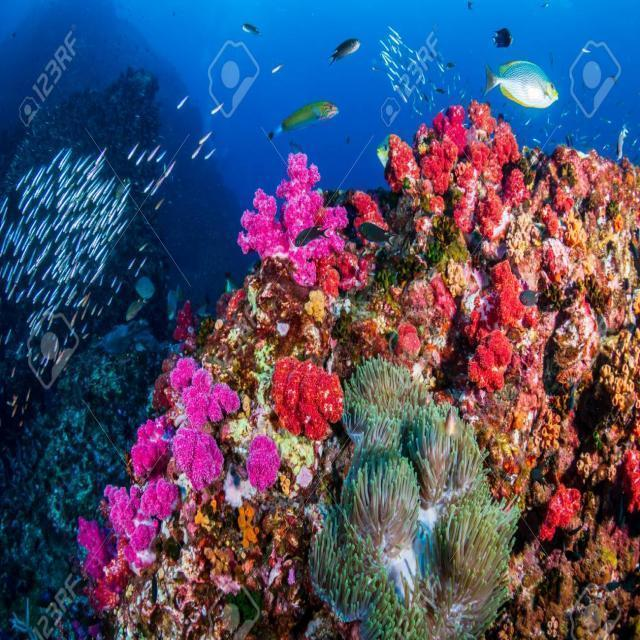Healthy Coral: (76, 117, 640, 638)
